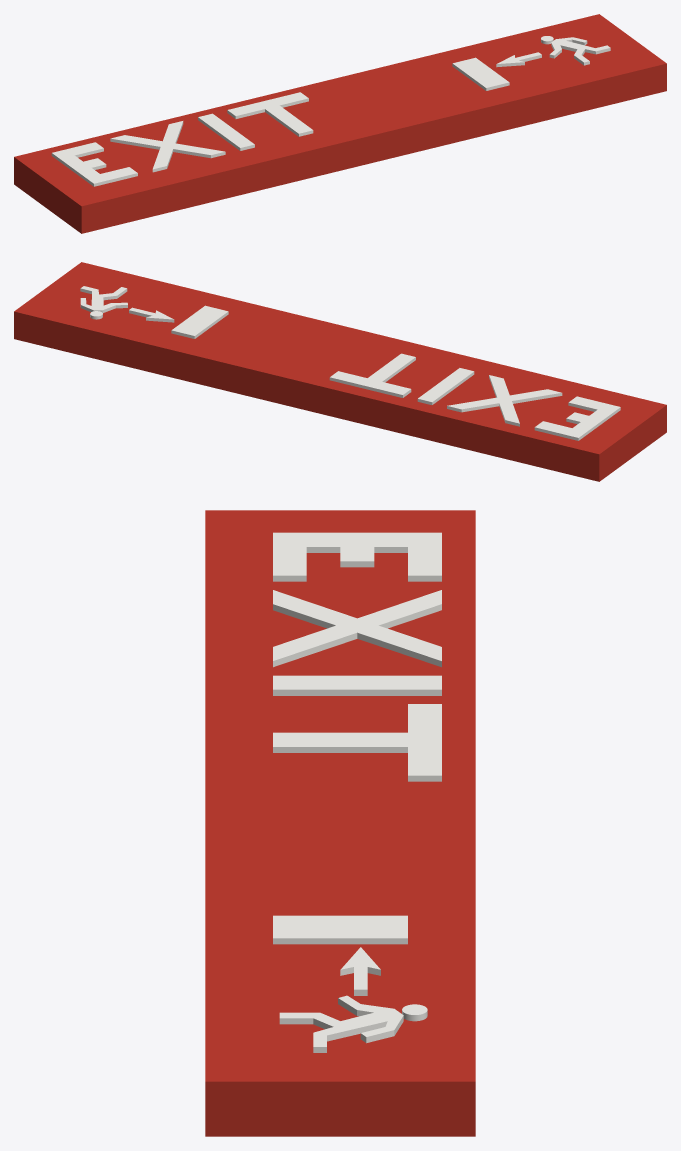
Rendered from Exit_skilt(Horror_game) v6.fbx.
3 renders of one model, top to bottom at view 1: azimuth 30°, elevation 25°; view 2: azimuth 150°, elevation 25°; view 3: azimuth 270°, elevation 25°, orthographic. The views are drawn at different scales.
Parts seen in each view (by area): view 1: Body9, Body1, Body2, Body4, Body5, Body7, Body3, Body6; view 2: Body9, Body1, Body2, Body4, Body5, Body3, Body7, Body6; view 3: Body9, Body2, Body1, Body4, Body5, Body3, Body7, Body6.
Part boxes in pixels (left/top/right/bottom): Body9: left=14, top=14, right=666, bottom=233; Body1: left=51, top=142, right=137, bottom=186; Body2: left=110, top=121, right=225, bottom=172; Body4: left=227, top=92, right=313, bottom=136; Body5: left=452, top=57, right=509, bottom=90; Body7: left=549, top=37, right=610, bottom=65; Body3: left=198, top=113, right=254, bottom=150; Body6: left=496, top=52, right=541, bottom=67; Body9: left=14, top=262, right=666, bottom=481; Body1: left=534, top=396, right=620, bottom=440; Body2: left=447, top=375, right=562, bottom=426; Body4: left=329, top=353, right=415, bottom=397; Body5: left=171, top=305, right=228, bottom=338; Body3: left=417, top=368, right=474, bottom=404; Body7: left=80, top=286, right=127, bottom=312; Body6: left=129, top=307, right=174, bottom=322; Body9: left=205, top=510, right=475, bottom=1136; Body2: left=273, top=590, right=441, bottom=667; Body1: left=273, top=532, right=441, bottom=581; Body4: left=273, top=704, right=441, bottom=781; Body5: left=273, top=915, right=407, bottom=944; Body3: left=273, top=675, right=441, bottom=695; Body7: left=279, top=995, right=403, bottom=1052; Body6: left=340, top=947, right=380, bottom=995.
Size of the model in its own units: 1000 by 50 by 200.
